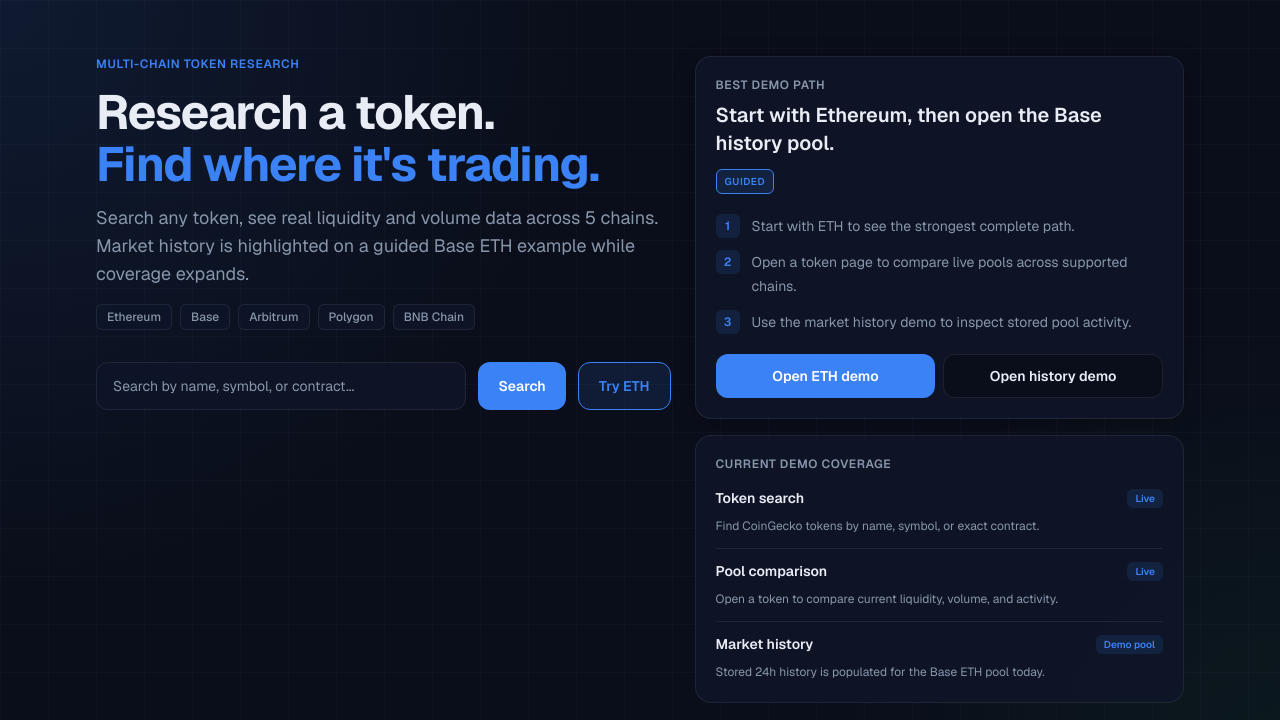
HomeSearchHero › shows a clear empty state for text queries with no results
Expected: the button "Search" is enabled, [478,362,566,410]
In the search field with placeholder "Search by name, symbol, or contract...": (281, 386) [96,362,466,410], type "totallymadeuptoken"
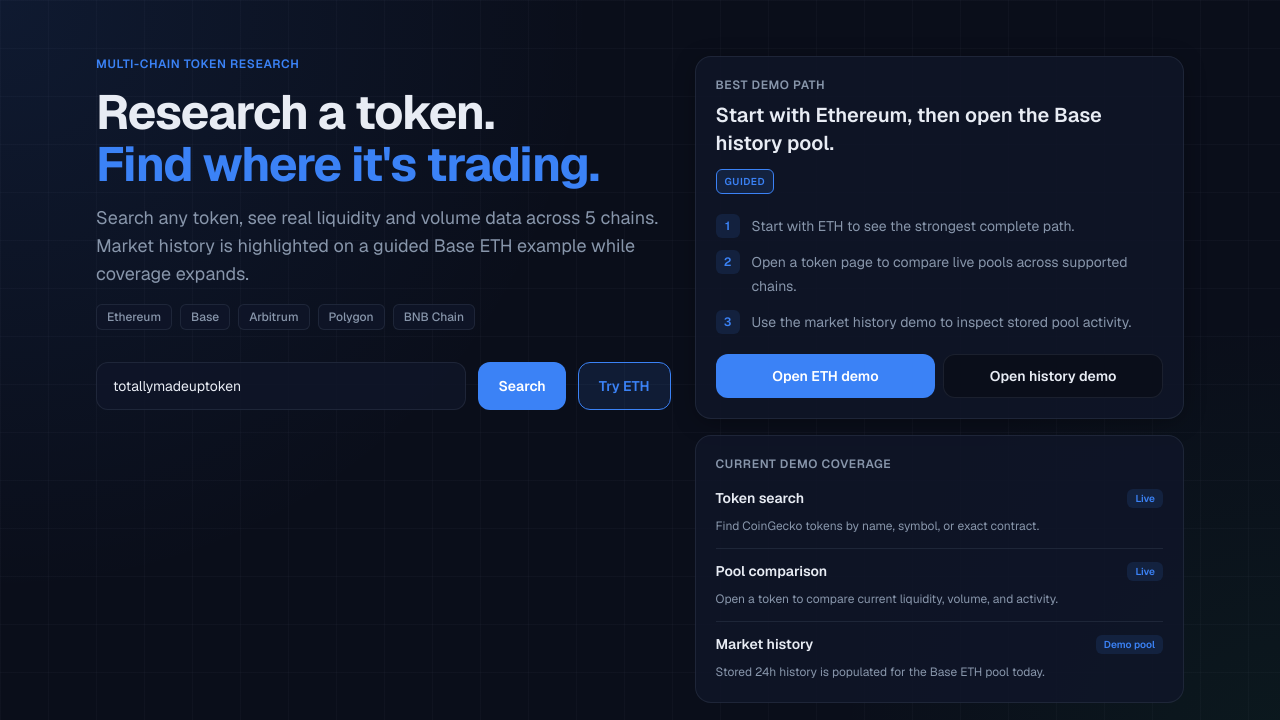
Click the button "Search": (522, 386) [478,362,566,410]
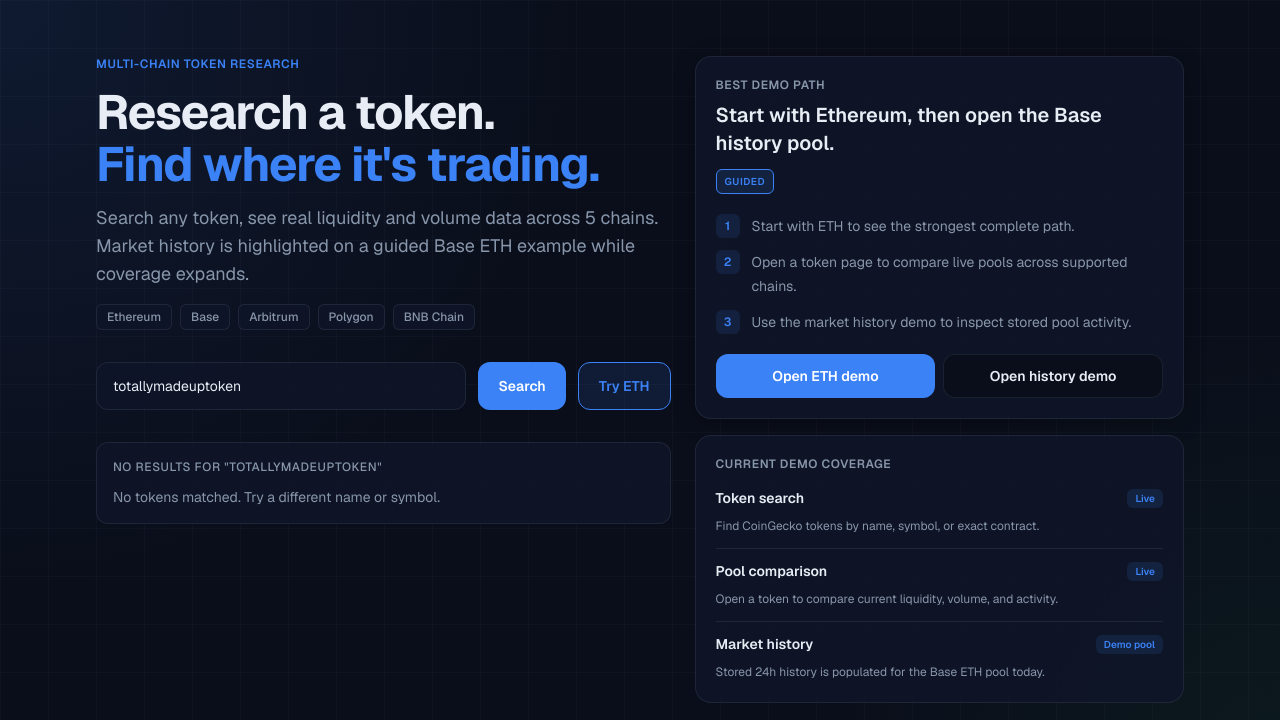
Expected: the text "No results for \"totallymadeuptoken\"" is shown, [113,459,382,475]
Expected: the text "No tokens matched. Try a different name or symbol." is shown, [113,488,440,506]
